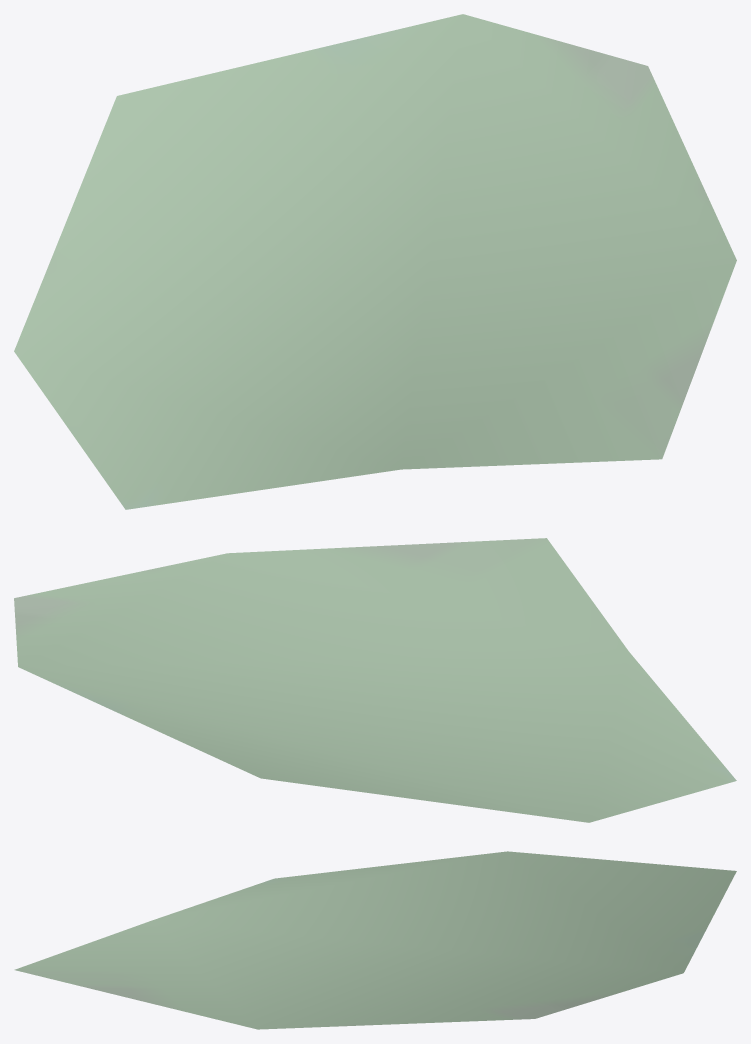
The model's file is TROLLHOLE02_HOLECAP55.fbx.
3 views of the same model, one above another, from view 1: azimuth 30°, elevation 25°; view 2: azimuth 150°, elevation 25°; view 3: azimuth 270°, elevation 25° (orthographic). The views are drawn at different scales.
Visible parts, largest first — view 1: TROLLHOLE02_HOLECAP55; view 2: TROLLHOLE02_HOLECAP55; view 3: TROLLHOLE02_HOLECAP55.
Part boxes in pixels (x1,y1,x2,y2): TROLLHOLE02_HOLECAP55: [14, 14, 736, 509]; TROLLHOLE02_HOLECAP55: [14, 538, 736, 822]; TROLLHOLE02_HOLECAP55: [14, 851, 736, 1029].
Size of the model in its own units: 17516 by 4205 by 19552.
1 material, 1 textured.
